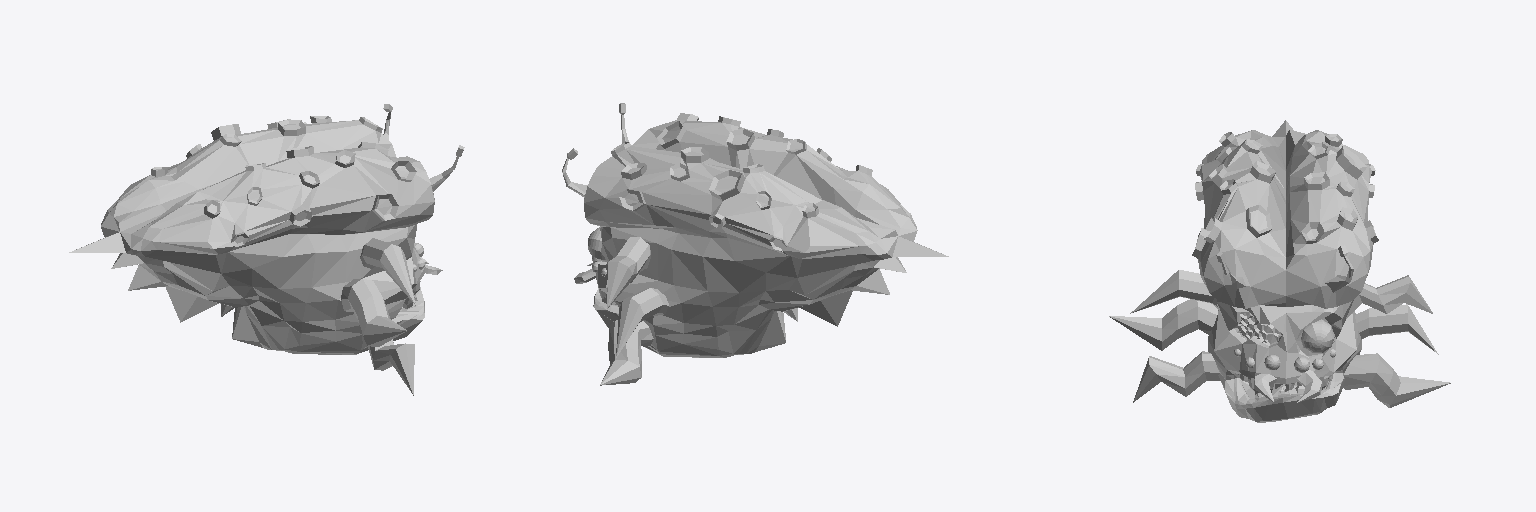
The model's file is Hivemind_1.obj.
3 renders of one model, left to right at view 1: azimuth 30°, elevation 25°; view 2: azimuth 150°, elevation 25°; view 3: azimuth 270°, elevation 25°, orthographic.
Parts seen in each view (by area): view 1: Face_Cube.001; view 2: Face_Cube.001; view 3: Face_Cube.001, Large_Eye_Sphere.
Part boxes in pixels (left/top/right/bottom): Face_Cube.001: left=69, top=104, right=464, bottom=395; Face_Cube.001: left=562, top=103, right=948, bottom=385; Face_Cube.001: left=1109, top=120, right=1450, bottom=422; Large_Eye_Sphere: left=1301, top=319, right=1334, bottom=352.
Bounding box in the file's own units: 5.86 × 3.29 × 4.75.